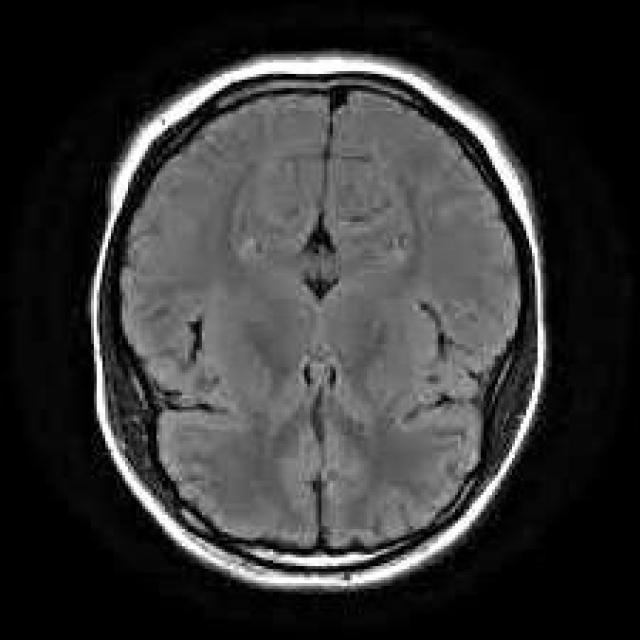notumor: (91, 57, 546, 594)
